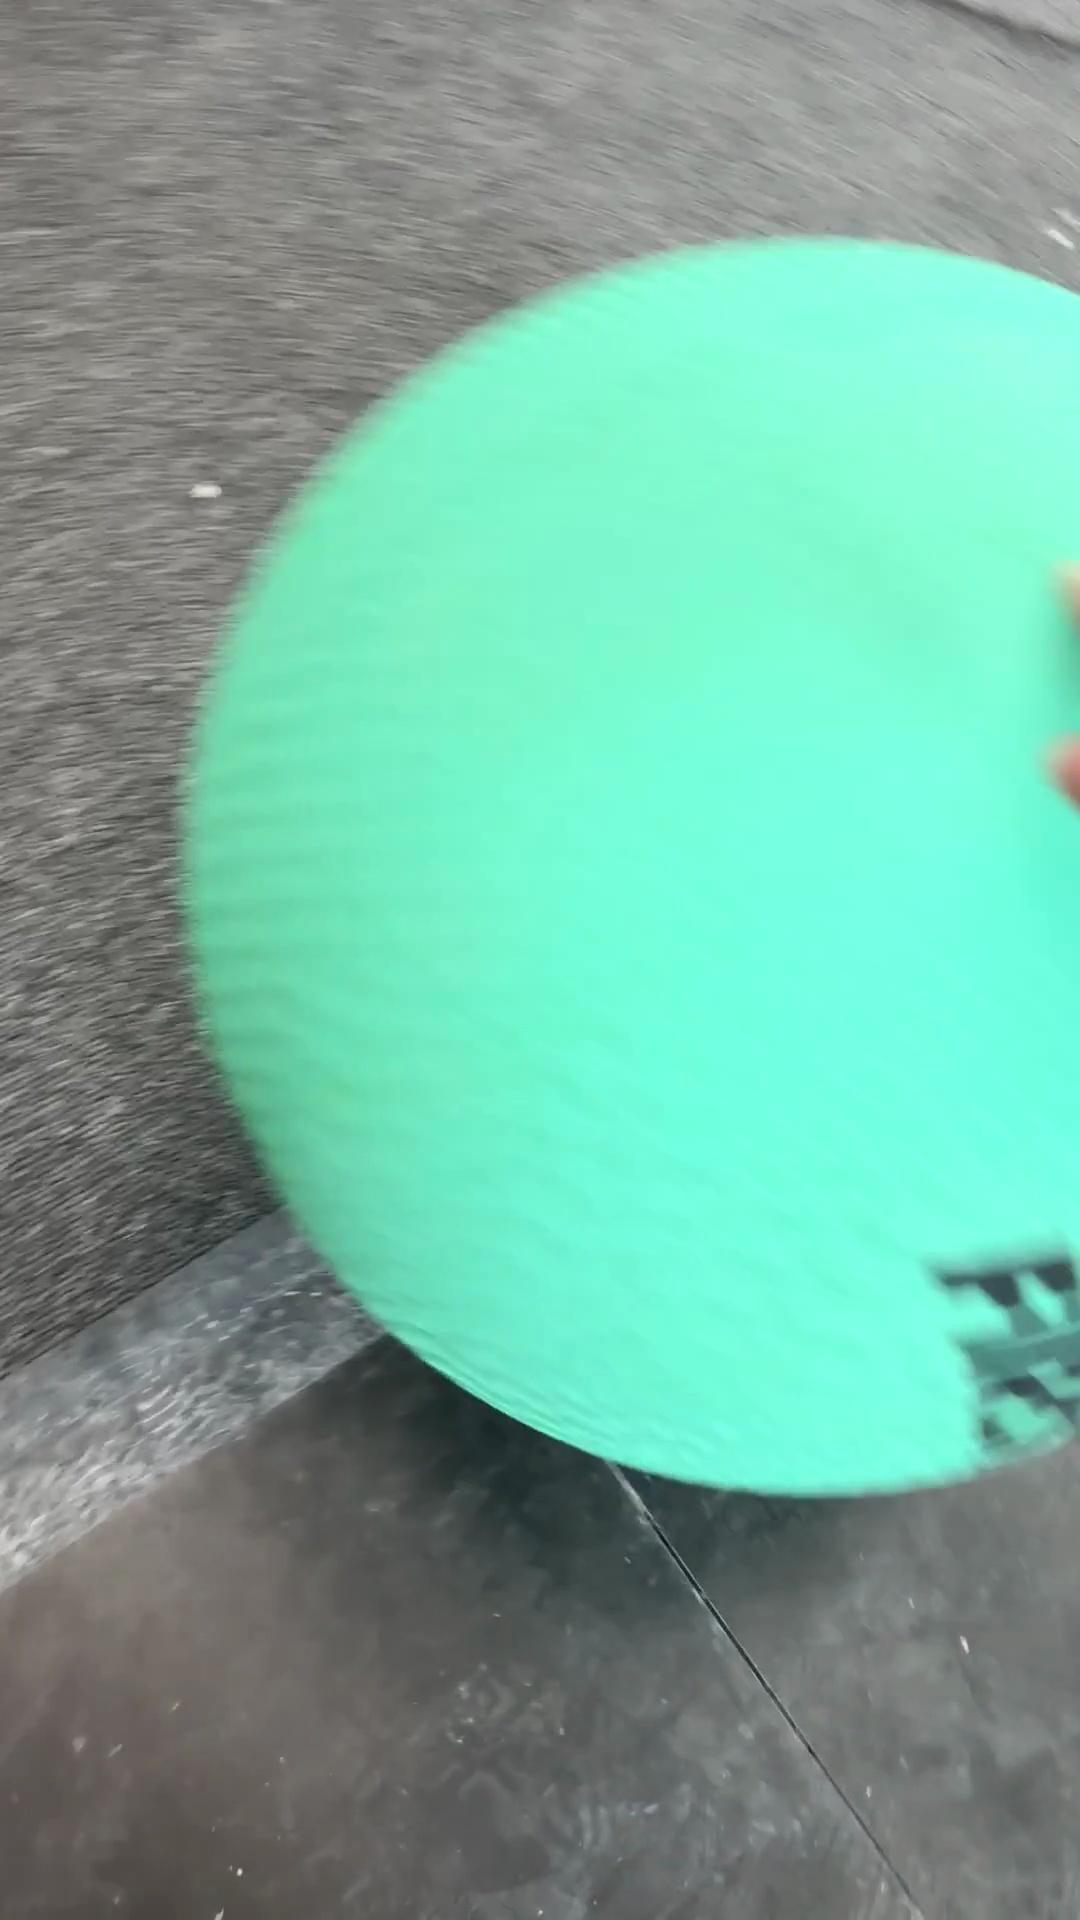ALGAE: (175, 231, 1077, 1501)
